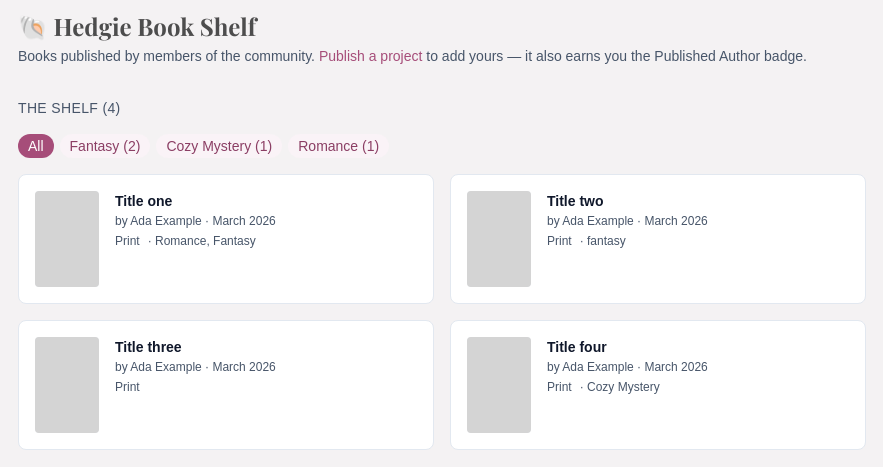
Scenario: BookshelfClient genre filter › shows only books with the chosen genre, and all again on All or a second click
Expected: the heading "The Shelf (4)" is shown, [18,100,121,116]
Click the button "Fantasy (2)" at (105, 146), box [60,134,150,158]
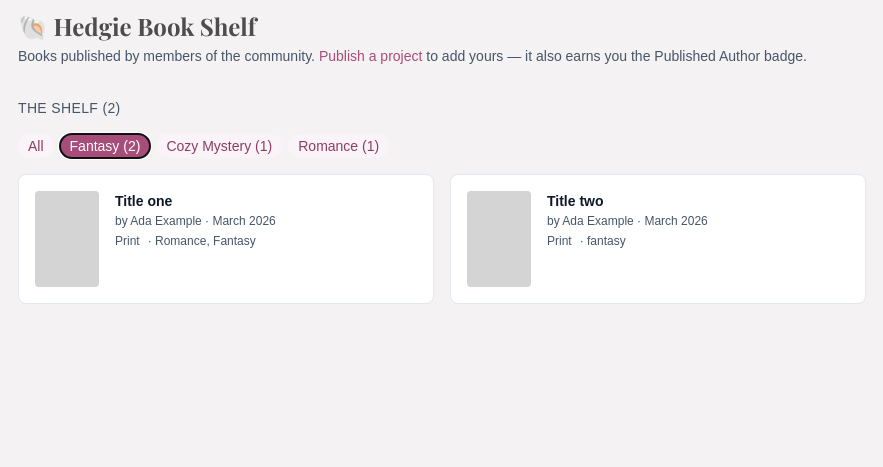
Expected: the link "Title one" is shown, [115,193,172,209]
Now the heading "The Shelf (2)" is shown, box [18,100,121,116]
Now the link "Title three" is gone
Click the button "Fantasy (2)" at (105, 146), box [60,134,150,158]
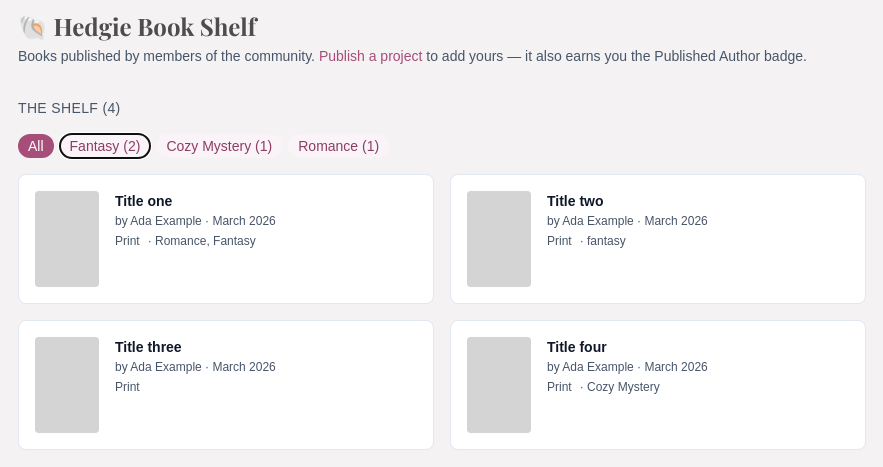
Now the heading "The Shelf (4)" is shown, box [18,100,121,116]
Click the button "Cozy Mystery (1)" at (219, 146), box [156,134,282,158]
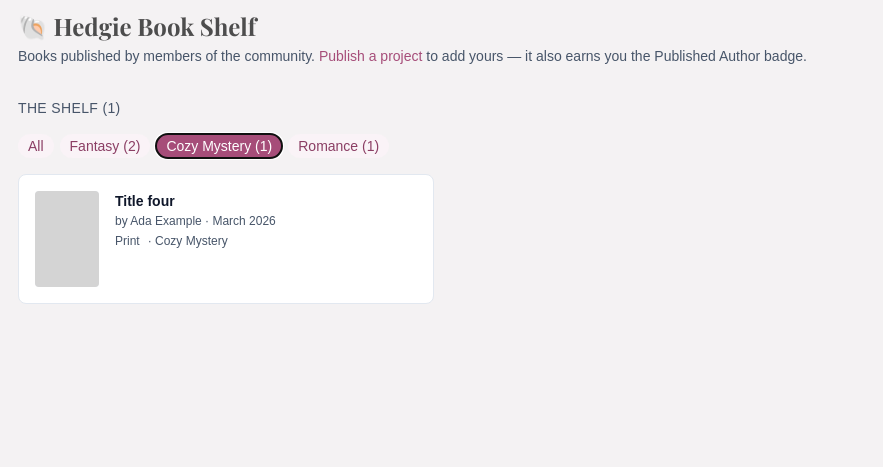
Now the heading "The Shelf (1)" is shown, box [18,100,121,116]
Click the button "All" at (36, 146), box [18,134,54,158]
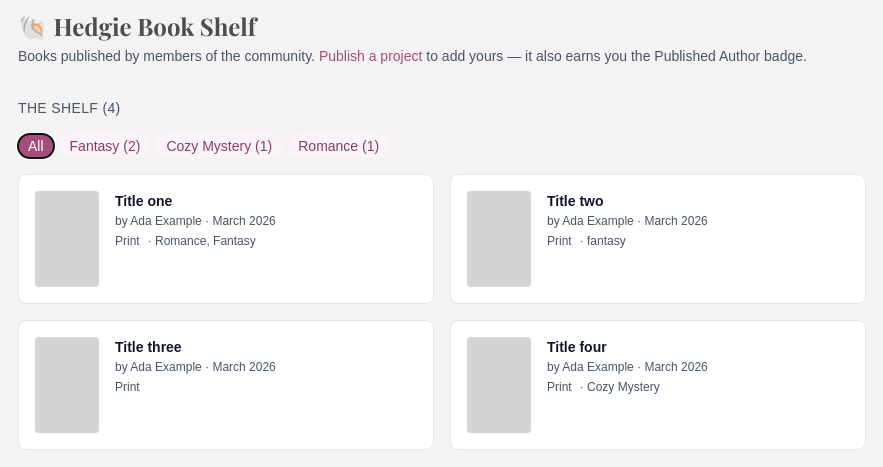
Now the heading "The Shelf (4)" is shown, box [18,100,121,116]
